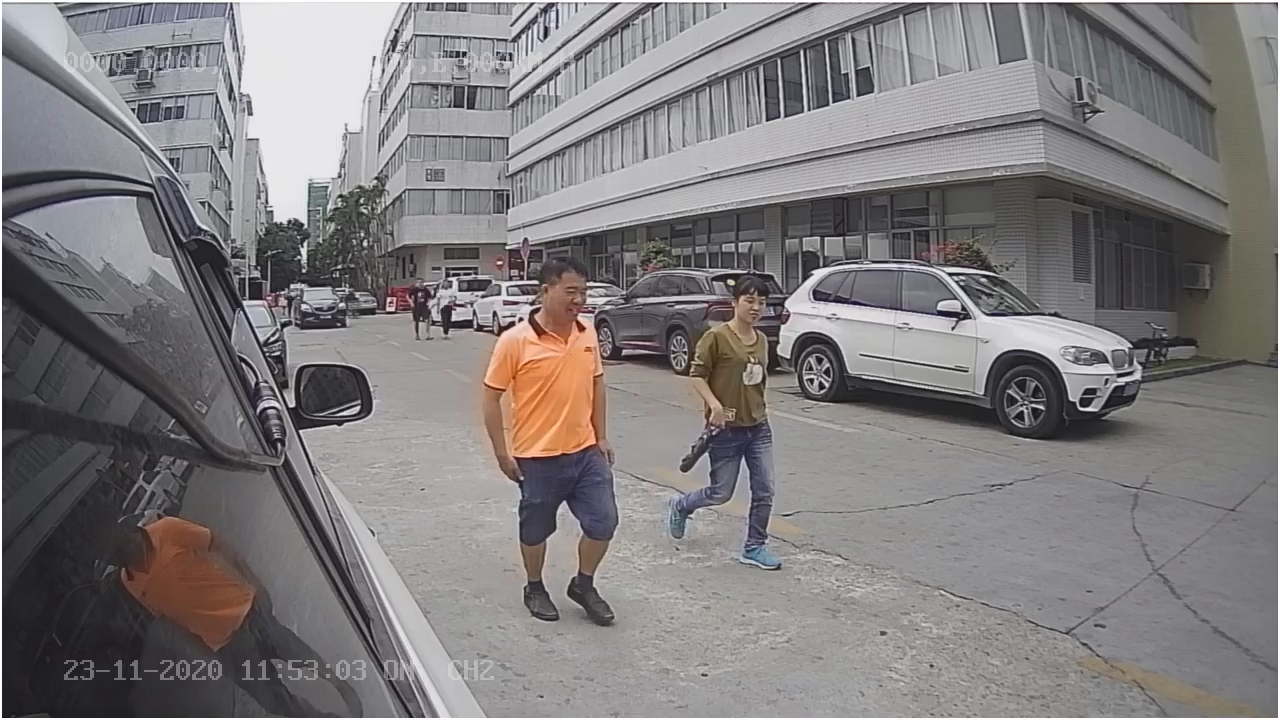person: (496, 268, 620, 609), (687, 271, 781, 567)
